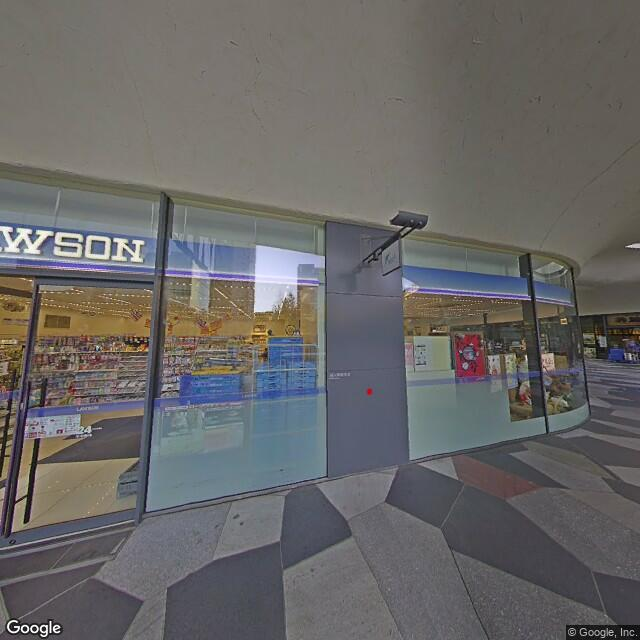lawson: (1, 216, 323, 296)
